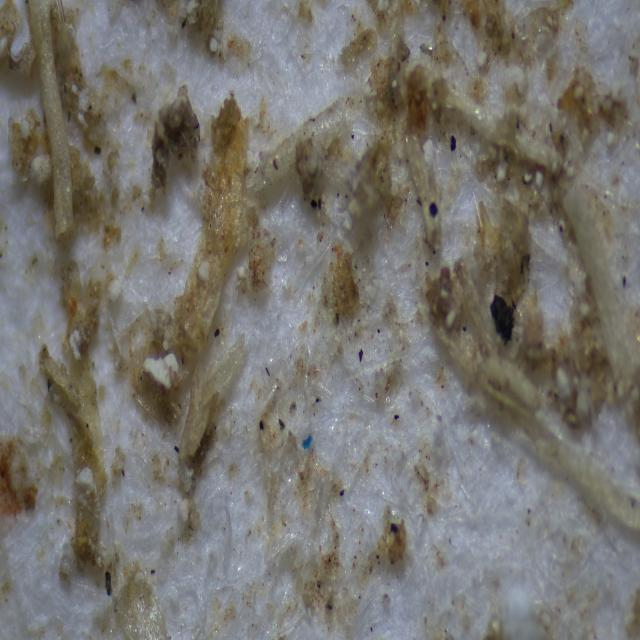microplastic: (295, 430, 319, 455)
